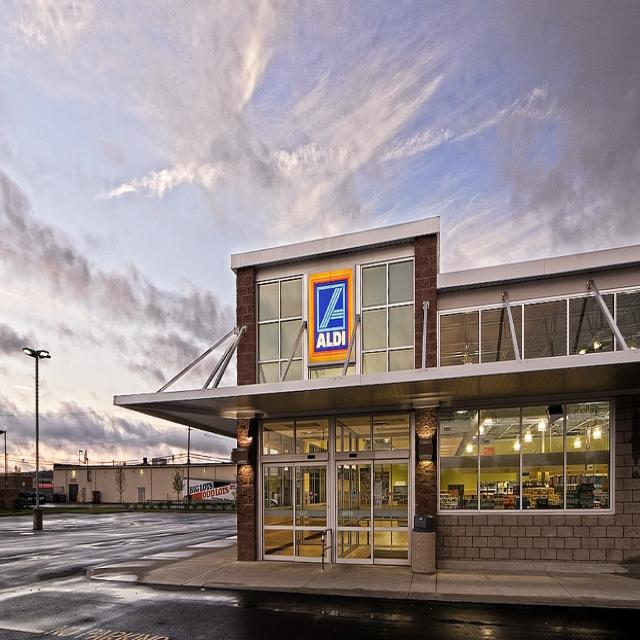aldi: (308, 270, 354, 365)
